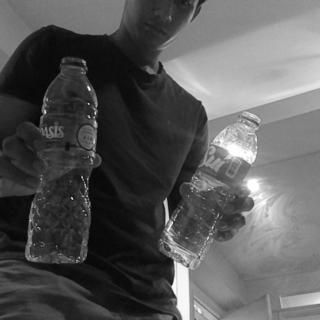plastic_bottles: (160, 110, 260, 270), (26, 56, 97, 263)
